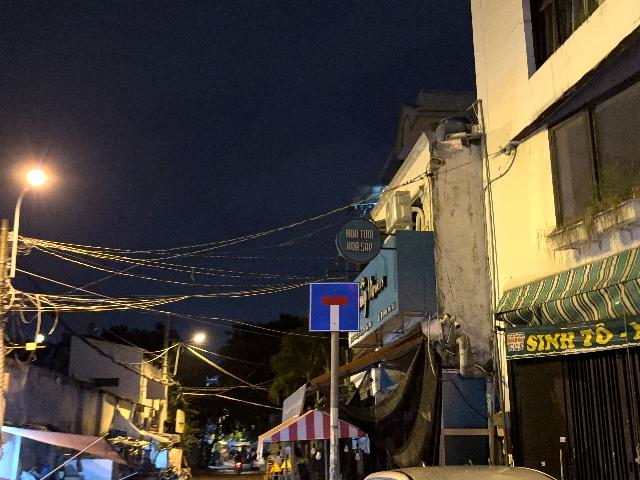duong-cut: (309, 283, 360, 332)
